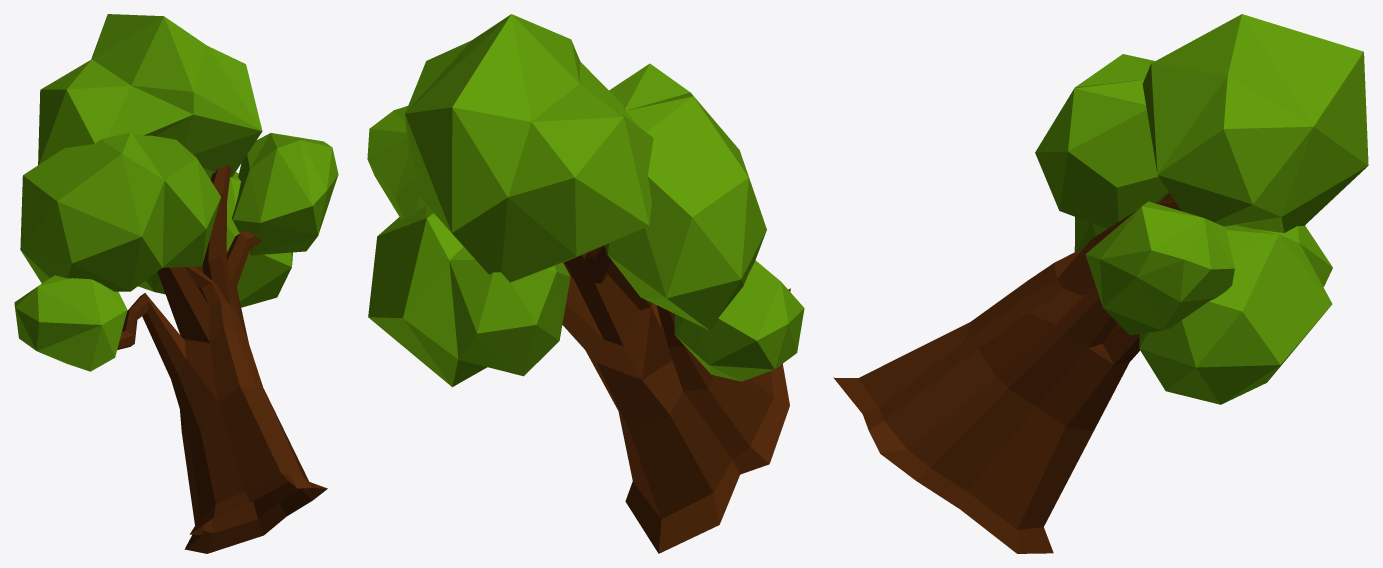
Rendered from GreekTreeWide.fbx.
3 renders of one model, left to right at view 1: azimuth 30°, elevation 25°; view 2: azimuth 150°, elevation 25°; view 3: azimuth 270°, elevation 25°, orthographic. The views are drawn at different scales.
Visible parts, largest first — view 1: tree-baobab; view 2: tree-baobab; view 3: tree-baobab.
Boxes of the visible parts, left/top/right/bottom form: tree-baobab: left=14, top=14, right=338, bottom=553; tree-baobab: left=367, top=14, right=804, bottom=553; tree-baobab: left=833, top=14, right=1368, bottom=553.
Bounding box in the file's own units: 205 × 290 × 251.
